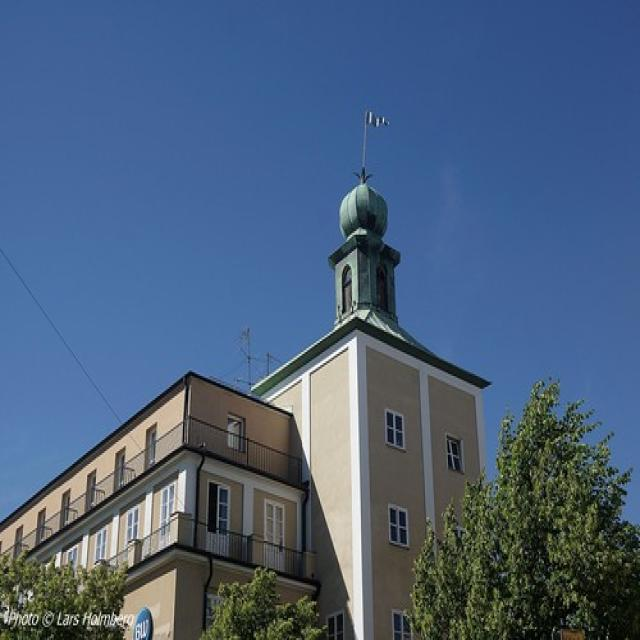building: (4, 299, 494, 631)
